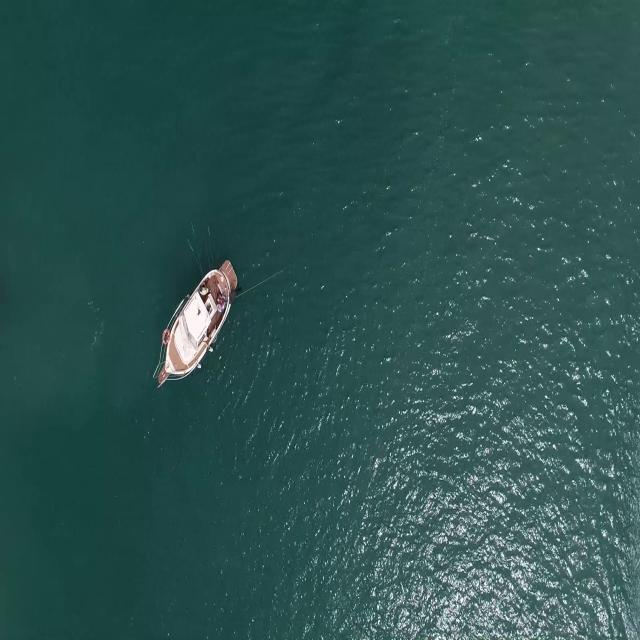boat: (152, 259, 238, 382)
life_buoy: (162, 323, 172, 346)
person: (198, 282, 214, 296), (215, 301, 226, 316)
